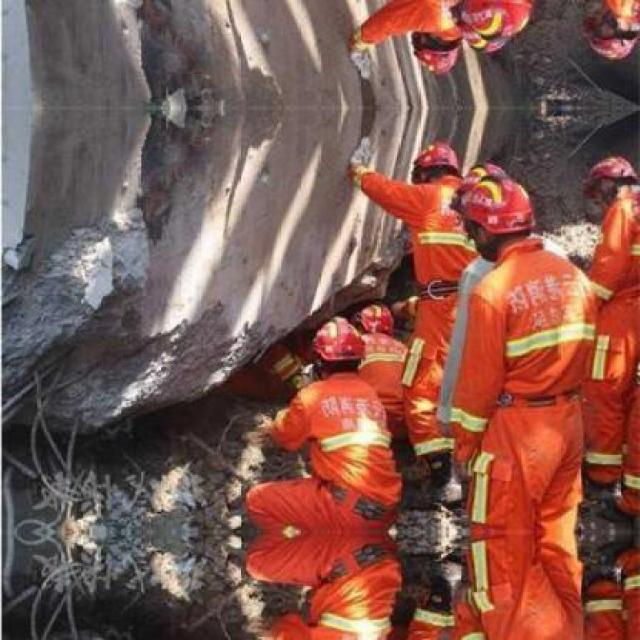Reflective-Jacket: (449, 242, 603, 515), (282, 375, 402, 506), (388, 179, 482, 305), (452, 166, 546, 246), (584, 195, 640, 297)
Safety-Helmet: (452, 170, 548, 247), (303, 312, 372, 373), (577, 148, 638, 199), (405, 136, 469, 183), (349, 298, 405, 346)
